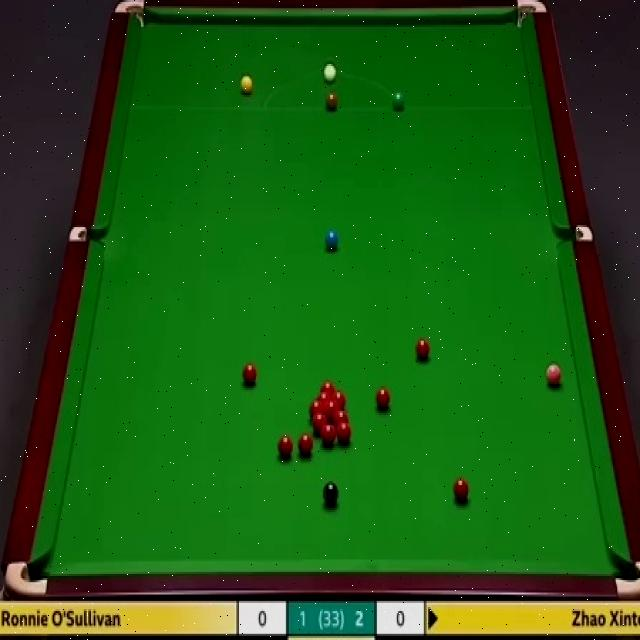black-ball: (323, 482, 339, 506)
blue-ball: (324, 228, 340, 252)
brown-ball: (325, 92, 339, 111)
green-ball: (392, 90, 405, 110)
pink-ball: (545, 362, 563, 391)
red-ball: (453, 477, 470, 503), (414, 339, 431, 364), (241, 362, 257, 387), (374, 387, 390, 412), (321, 422, 337, 446), (336, 420, 352, 444), (278, 436, 294, 459), (298, 434, 312, 458), (311, 413, 327, 432), (330, 391, 346, 408), (332, 410, 349, 424), (324, 401, 339, 415), (309, 400, 324, 413), (320, 380, 336, 391), (316, 392, 334, 401)
white-ball: (324, 60, 338, 83)
yellow-ball: (238, 72, 252, 96)
